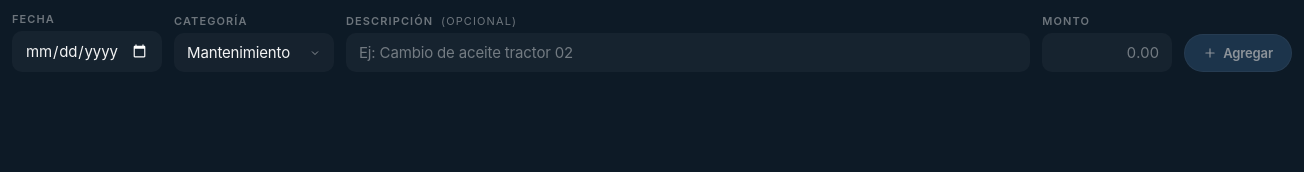
Test case: <IndirectoForm /> › botón Agregar se habilita cuando fecha y monto están presentes
The image size is (1304, 172).
Type "2026-05-15" into the date field labelled "Fecha" at (87, 52), box [12,31,162,72]
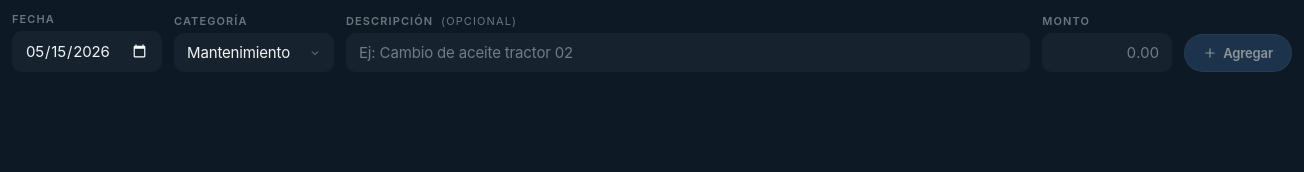
Type "1500" into the number field labelled "Monto" at (1107, 52), box [1042,33,1172,72]
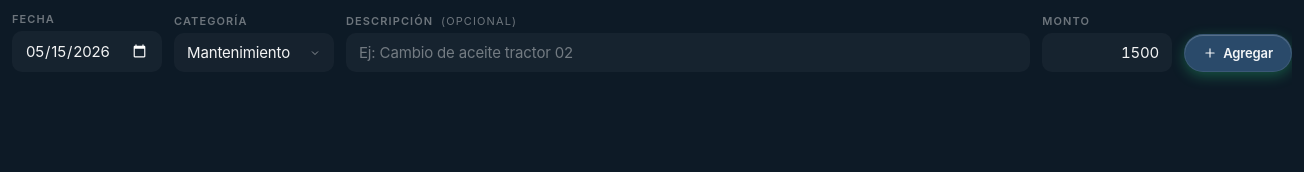
expect the button "Agregar" is enabled: met, box [1184,34,1292,72]
